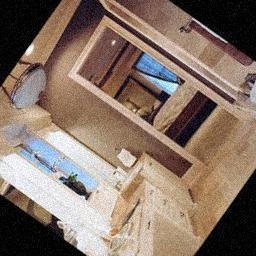Ducha: (91, 0, 256, 100)
